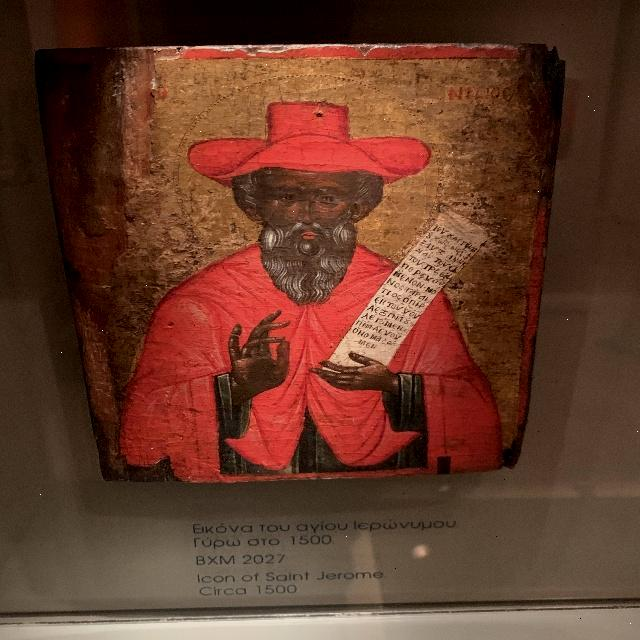aura: (171, 71, 449, 260)
scroll: (327, 210, 503, 379)
st_jerome: (110, 79, 505, 471)
